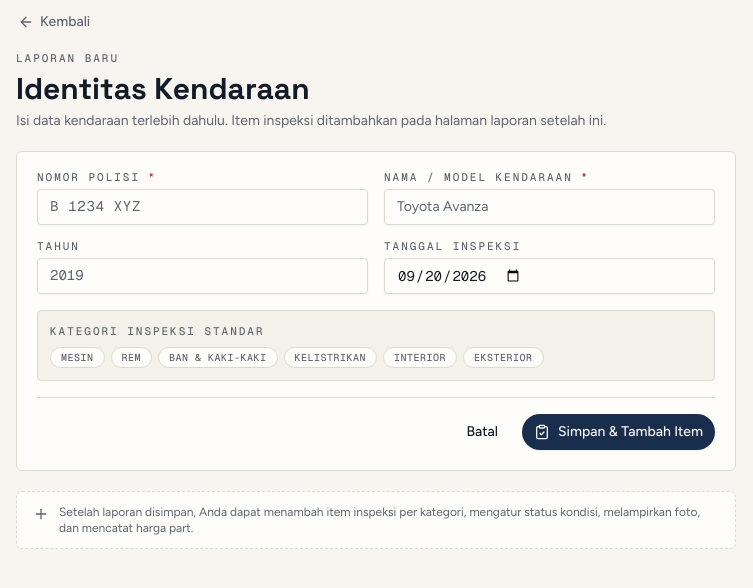
it: ReportNewPage › blocks submission and shows required-field errors when both fields are empty
The width and height of the screenshot is (753, 588).
Click the button with test id "report.submit_button".
click(618, 432)  # box [522,414,715,450]
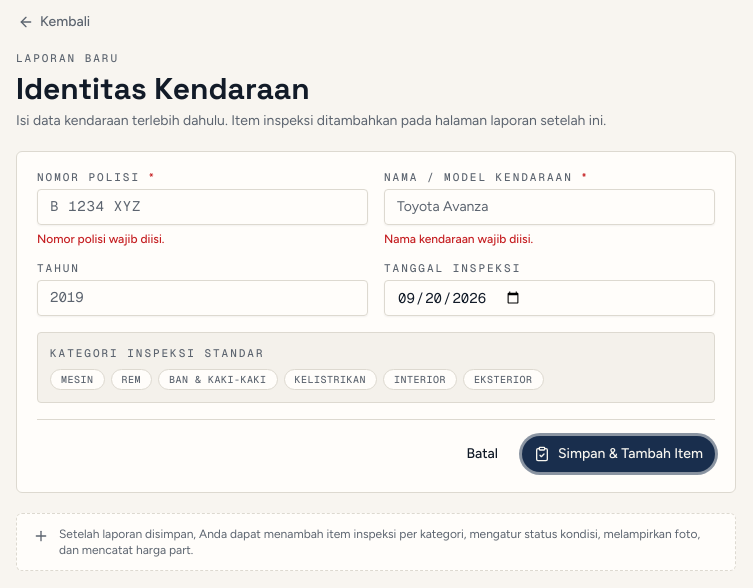
Expected: the text with test id "report.plate_error" reads "Nomor polisi wajib diisi.", [37,232,164,246]
Expected: the text with test id "report.vehicle_error" reads "Nama kendaraan wajib diisi.", [384,232,533,246]
